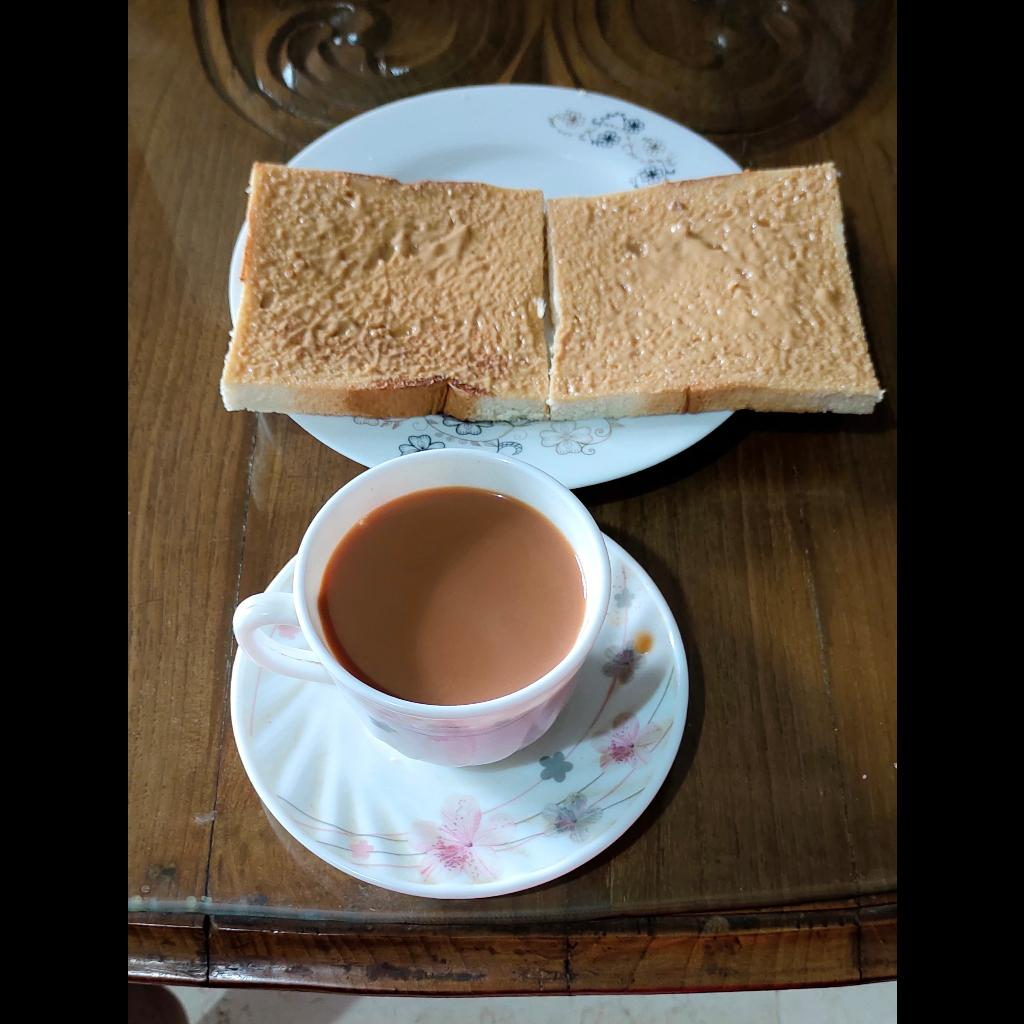bread: (212, 160, 883, 420)
cha: (321, 486, 582, 708)
